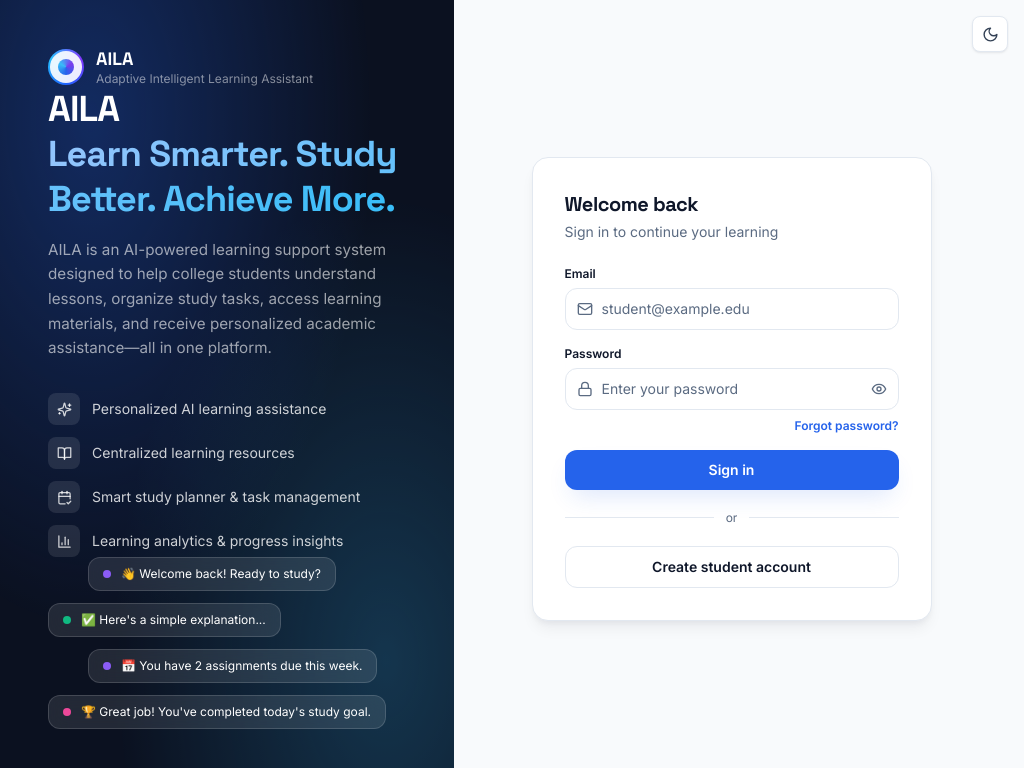
LoginPage › resending from the login page shows a success message
Type "ada@example.com" into the field with placeholder "student@example.edu" at (732, 308), box [564, 288, 898, 330]
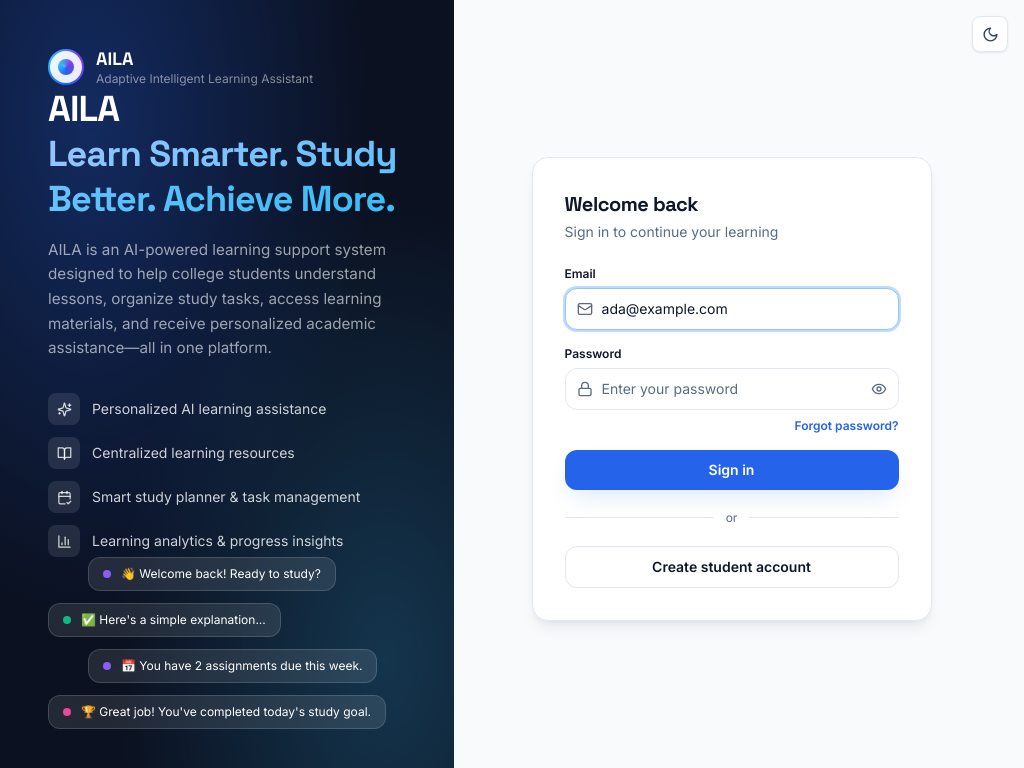
Type "Password1!" into the password field with placeholder "Enter your password" at (732, 388), box [564, 368, 898, 410]
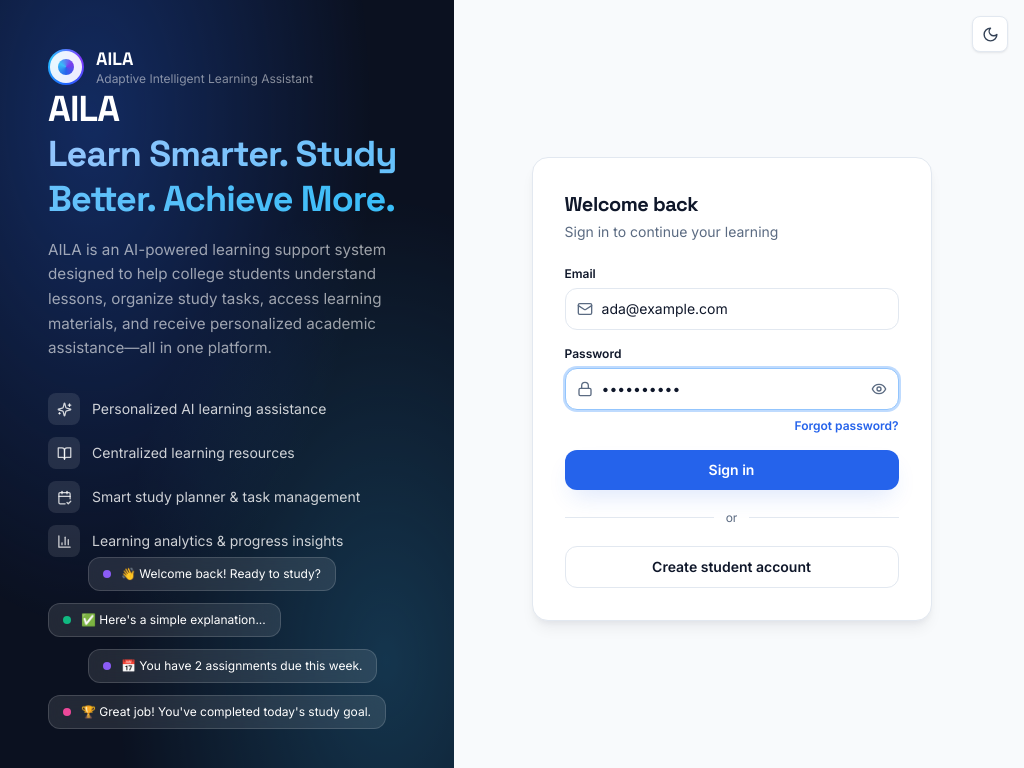
Click the button "Sign in" at (732, 470), box [564, 450, 898, 490]
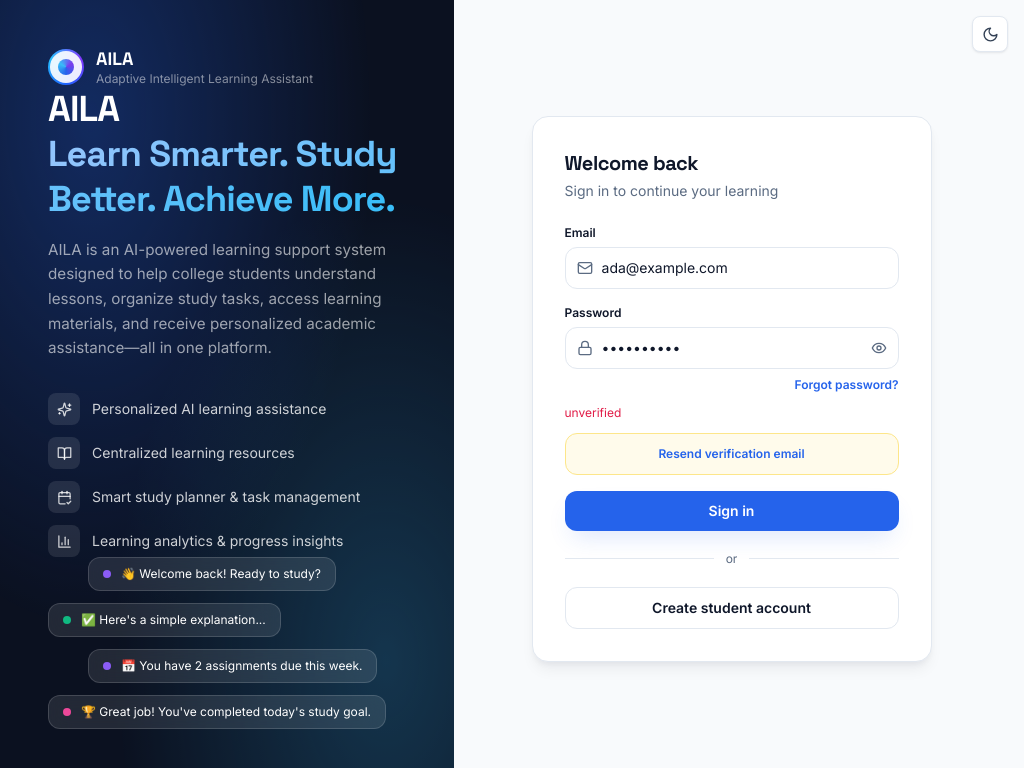
Now the button "Resend verification email" is shown
Click the button "Resend verification email" at (732, 454), box [578, 446, 886, 462]
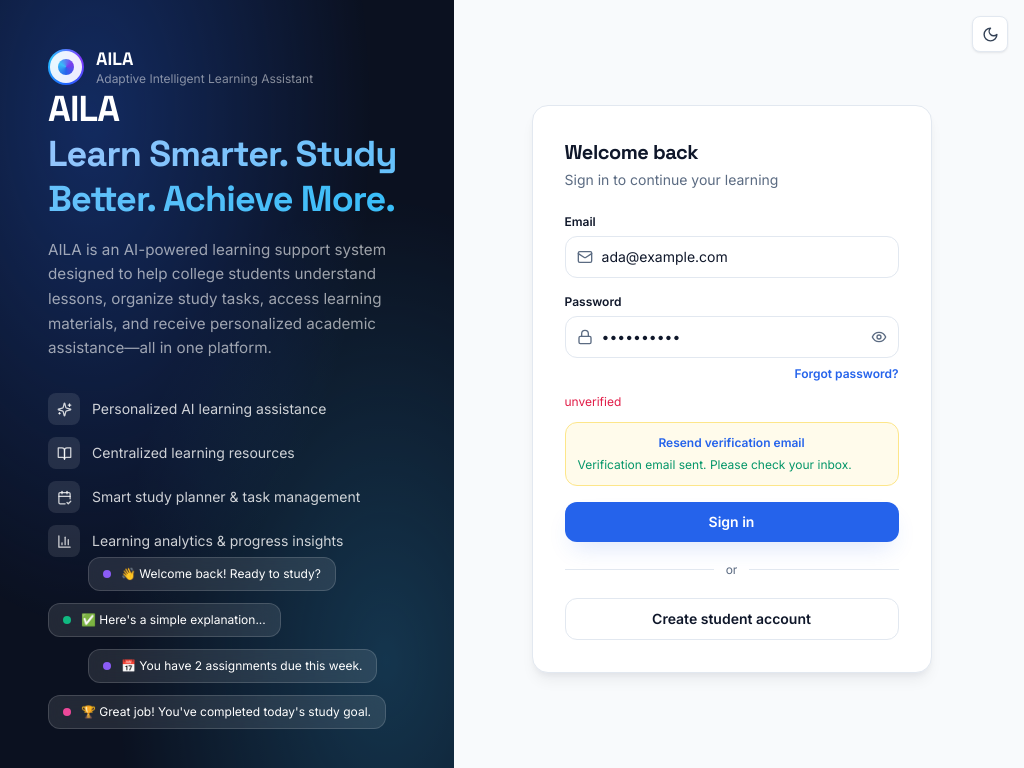
Now the text "Verification email sent. Please check your inbox." is shown, box [578, 456, 886, 472]
